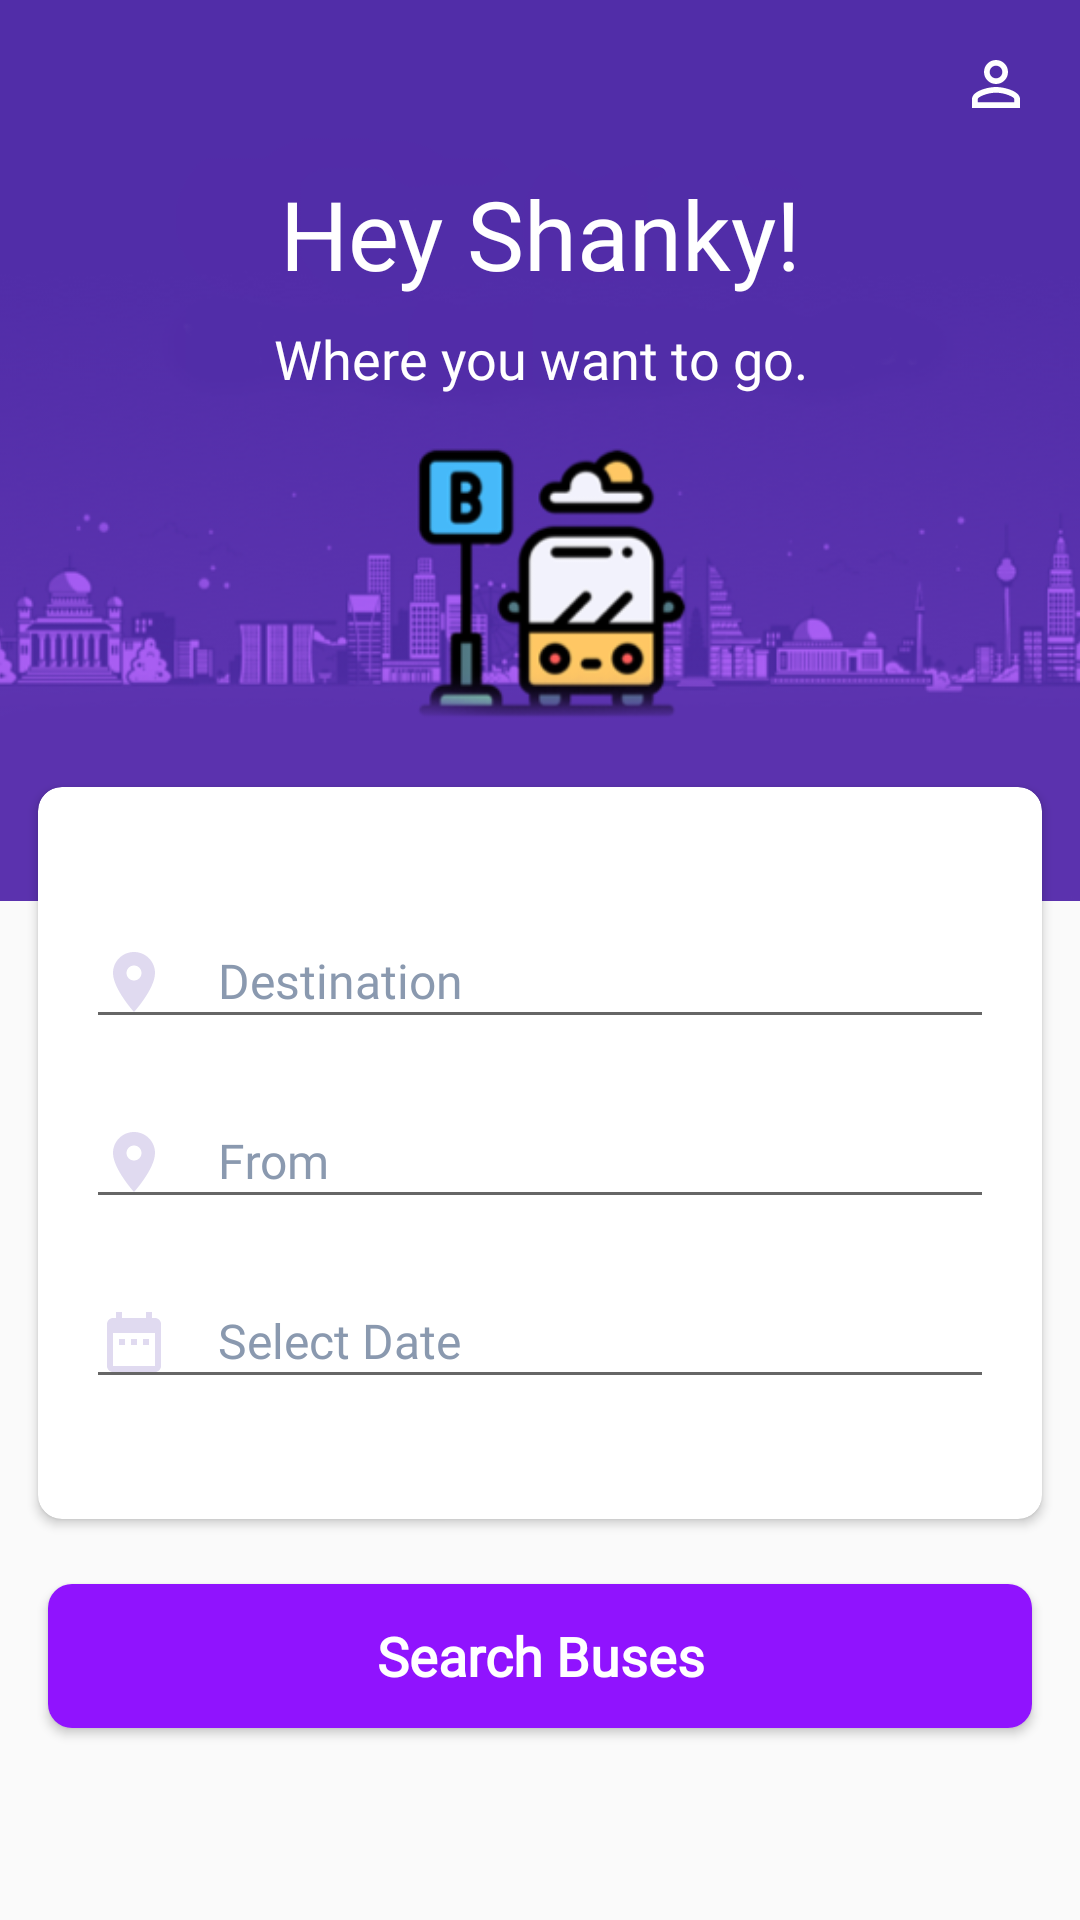

Icons on this 1080×1920 Android screen, each with the point to tap as [x,y]:
person: [996,84]
